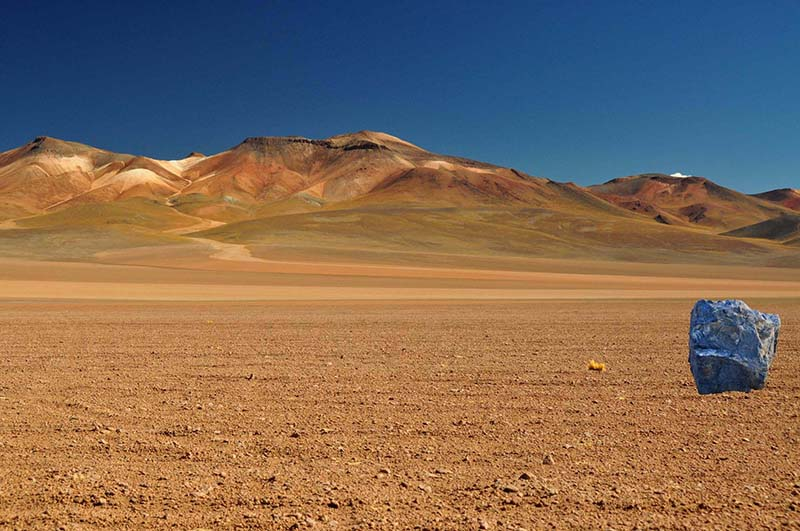Rocks: (684, 296, 787, 399)
